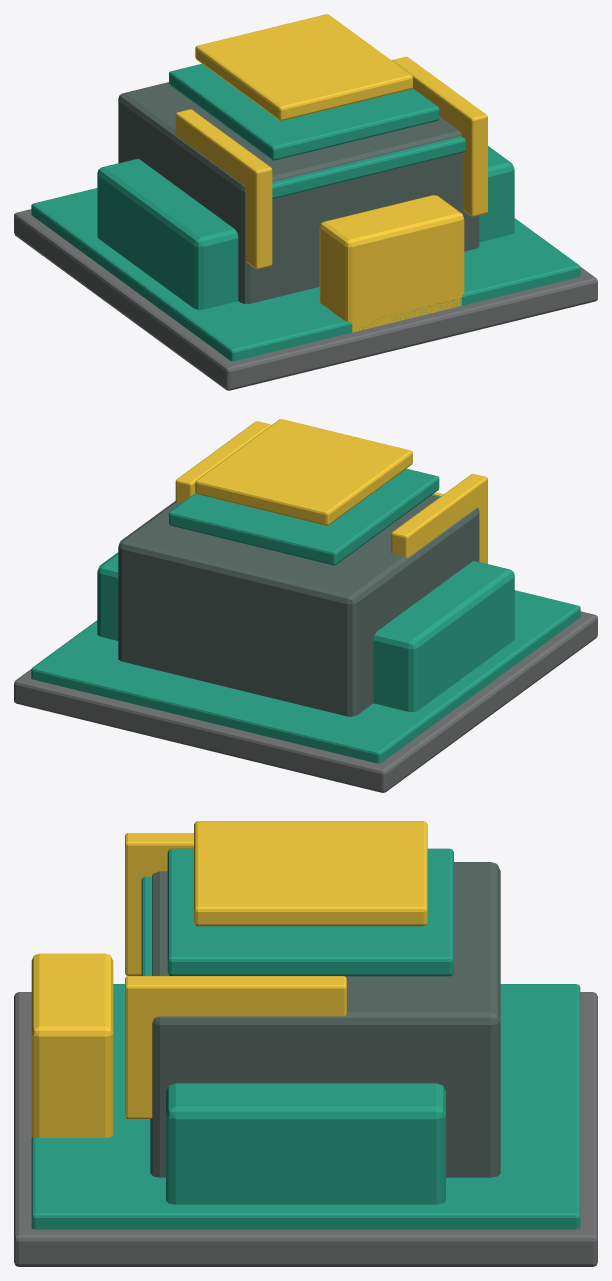
File: SM_Coalition_CO_Barracks.fbx
3 views of the same model, one above another, from view 1: azimuth 30°, elevation 25°; view 2: azimuth 150°, elevation 25°; view 3: azimuth 270°, elevation 25° (orthographic). The views are drawn at different scales.
Parts seen in each view (by area): view 1: SM_Coalition_CO_Barracks_MainMass, SM_Coalition_CO_Barracks_FoundationTrim, SM_Coalition_CO_Barracks, SM_Coalition_CO_Barracks_Entrance, SM_Coalition_CO_Barracks_Roof_2, SM_Coalition_CO_Barracks_BunkerWing_-1, SM_Coalition_CO_Barracks_Roof_1, SM_Coalition_CO_Barracks_Fin_-1, SM_Coalition_CO_Barracks_Fin_+1, SM_Coalition_CO_Barracks_Roof_0, SM_Coalition_CO_Barracks_BunkerWing_+1; view 2: SM_Coalition_CO_Barracks_MainMass, SM_Coalition_CO_Barracks_FoundationTrim, SM_Coalition_CO_Barracks, SM_Coalition_CO_Barracks_Roof_2, SM_Coalition_CO_Barracks_BunkerWing_-1, SM_Coalition_CO_Barracks_Roof_1, SM_Coalition_CO_Barracks_Fin_-1, SM_Coalition_CO_Barracks_BunkerWing_+1, SM_Coalition_CO_Barracks_Fin_+1; view 3: SM_Coalition_CO_Barracks_FoundationTrim, SM_Coalition_CO_Barracks_MainMass, SM_Coalition_CO_Barracks_BunkerWing_+1, SM_Coalition_CO_Barracks, SM_Coalition_CO_Barracks_Roof_2, SM_Coalition_CO_Barracks_Roof_1, SM_Coalition_CO_Barracks_Entrance, SM_Coalition_CO_Barracks_Fin_+1, SM_Coalition_CO_Barracks_Fin_-1, SM_Coalition_CO_Barracks_Roof_0.
Boxes of the visible parts, bbox=[...] form: SM_Coalition_CO_Barracks_MainMass: bbox=[118, 82, 479, 303]; SM_Coalition_CO_Barracks_FoundationTrim: bbox=[31, 188, 580, 361]; SM_Coalition_CO_Barracks: bbox=[14, 209, 597, 390]; SM_Coalition_CO_Barracks_Entrance: bbox=[319, 195, 464, 332]; SM_Coalition_CO_Barracks_Roof_2: bbox=[195, 14, 412, 120]; SM_Coalition_CO_Barracks_BunkerWing_-1: bbox=[97, 159, 238, 309]; SM_Coalition_CO_Barracks_Roof_1: bbox=[169, 64, 439, 160]; SM_Coalition_CO_Barracks_Fin_-1: bbox=[175, 109, 272, 269]; SM_Coalition_CO_Barracks_Fin_+1: bbox=[392, 56, 487, 216]; SM_Coalition_CO_Barracks_Roof_0: bbox=[272, 136, 465, 198]; SM_Coalition_CO_Barracks_BunkerWing_+1: bbox=[479, 146, 514, 242]; SM_Coalition_CO_Barracks_MainMass: bbox=[118, 495, 479, 716]; SM_Coalition_CO_Barracks_FoundationTrim: bbox=[31, 590, 580, 763]; SM_Coalition_CO_Barracks: bbox=[14, 611, 597, 792]; SM_Coalition_CO_Barracks_Roof_2: bbox=[195, 419, 412, 525]; SM_Coalition_CO_Barracks_BunkerWing_-1: bbox=[373, 561, 514, 711]; SM_Coalition_CO_Barracks_Roof_1: bbox=[169, 468, 439, 565]; SM_Coalition_CO_Barracks_Fin_-1: bbox=[391, 473, 487, 563]; SM_Coalition_CO_Barracks_BunkerWing_+1: bbox=[97, 552, 118, 640]; SM_Coalition_CO_Barracks_Fin_+1: bbox=[175, 421, 271, 502]; SM_Coalition_CO_Barracks_FoundationTrim: bbox=[31, 984, 580, 1229]; SM_Coalition_CO_Barracks_MainMass: bbox=[150, 862, 500, 1177]; SM_Coalition_CO_Barracks_BunkerWing_+1: bbox=[166, 1083, 445, 1204]; SM_Coalition_CO_Barracks: bbox=[14, 992, 597, 1266]; SM_Coalition_CO_Barracks_Roof_2: bbox=[194, 821, 427, 926]; SM_Coalition_CO_Barracks_Roof_1: bbox=[167, 848, 453, 976]; SM_Coalition_CO_Barracks_Entrance: bbox=[31, 953, 113, 1137]; SM_Coalition_CO_Barracks_Fin_+1: bbox=[125, 976, 346, 1118]; SM_Coalition_CO_Barracks_Fin_-1: bbox=[125, 833, 193, 975]; SM_Coalition_CO_Barracks_Roof_0: bbox=[141, 876, 152, 975].
Size of what is drawn, in the model's own units: 600 by 600 by 319.
